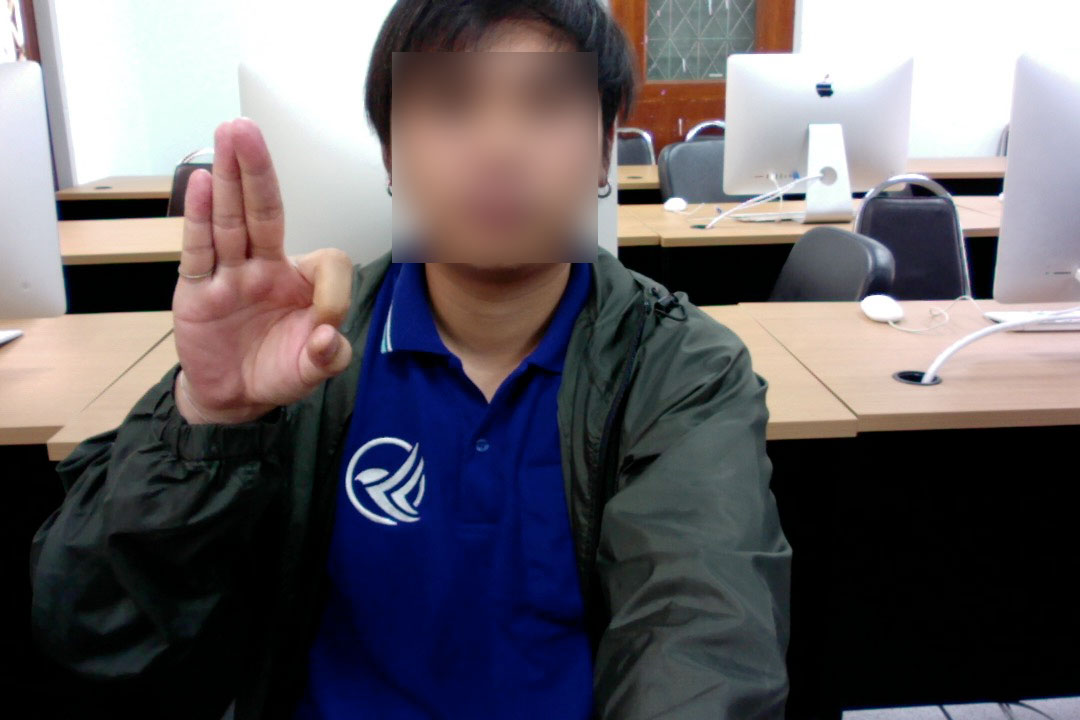for: (145, 95, 370, 452)
